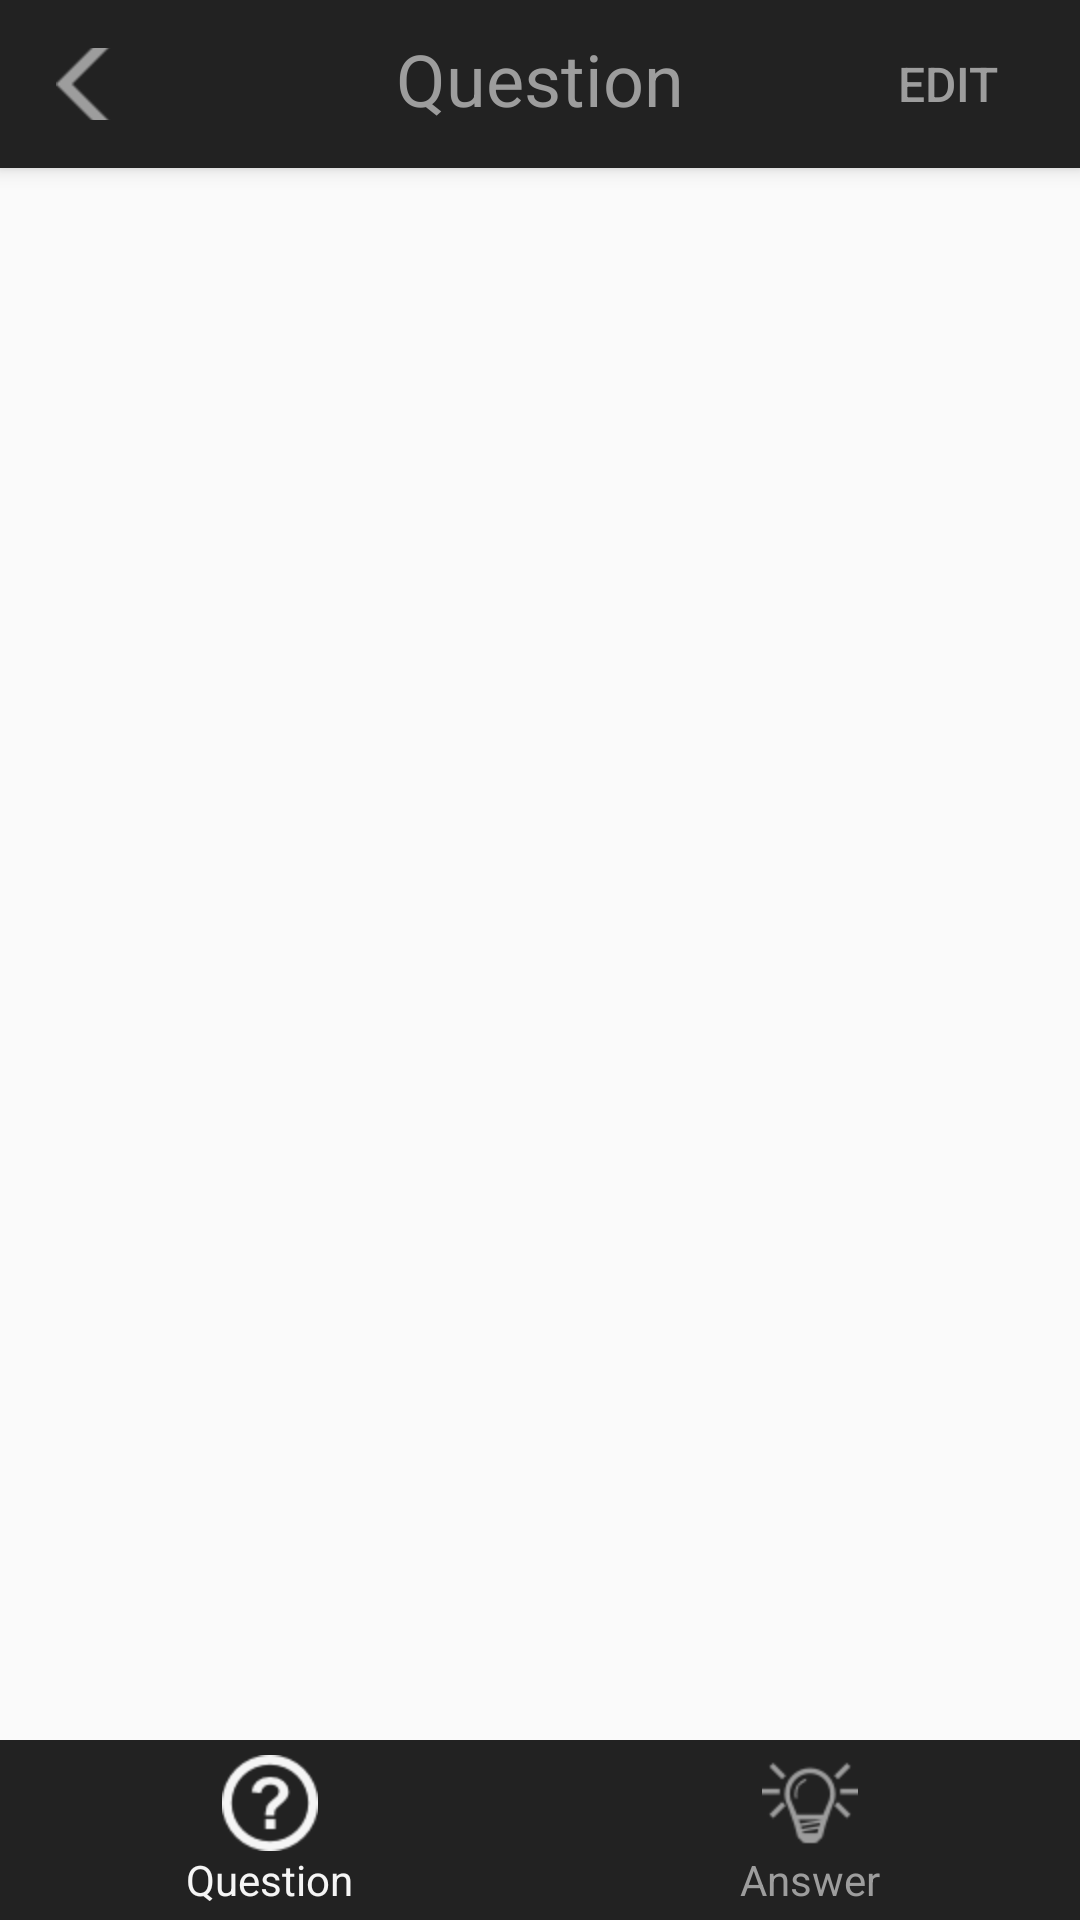

Where icons sit on this 1080px×1920px app screen, as (x1, y1, x2, y2):
back: (56, 48, 109, 120)
